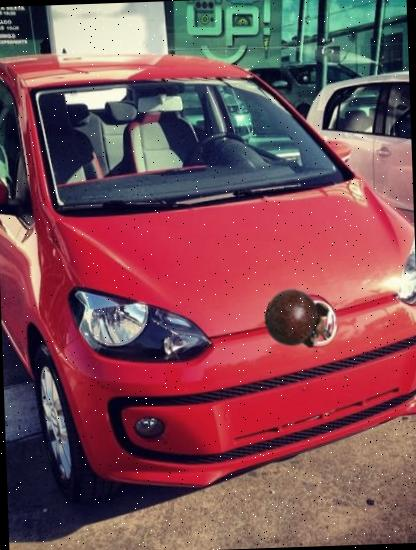Mangostan: (264, 284, 336, 357)
